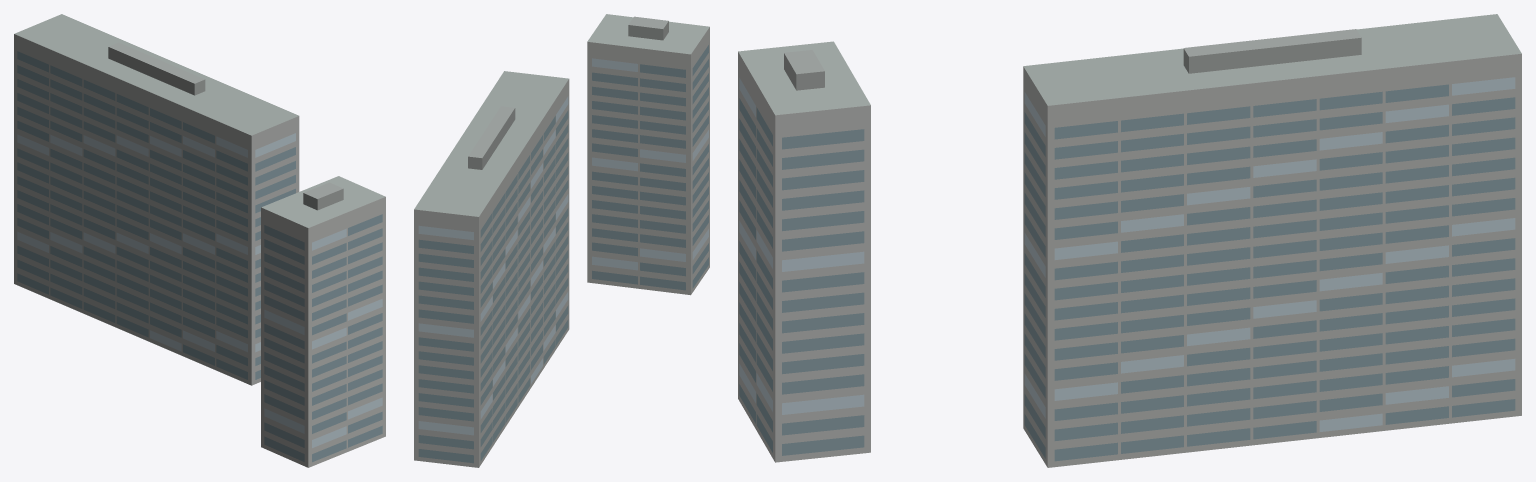
Rendered from apt-a13684701.glb.
3 views of the same model, side by side, from view 1: azimuth 30°, elevation 25°; view 2: azimuth 150°, elevation 25°; view 3: azimuth 270°, elevation 25° (orthographic). The views are drawn at different scales.
Visible parts, largest first — view 1: apt-a13684701; view 2: apt-a13684701; view 3: apt-a13684701.
Boxes of the visible parts, x1=… form: apt-a13684701: x1=14, y1=14, x2=385, y2=467; apt-a13684701: x1=414, y1=14, x2=709, y2=467; apt-a13684701: x1=738, y1=14, x2=1521, y2=467.
Bounding box in the file's own units: 25.48 × 49 × 91.83.
